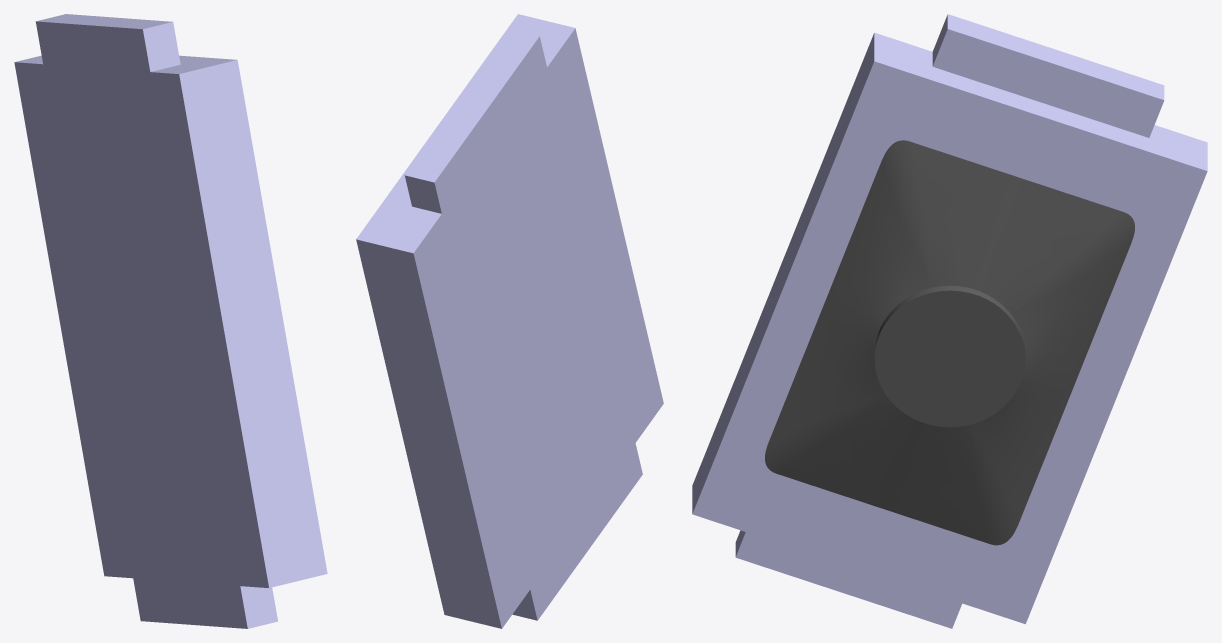
File: EBoxNewAsm_stp_1_IMC413_1_stp_1_IMC413_1_30_stp_1_solid1.obj
3 views of the same model, side by side, from view 1: azimuth 30°, elevation 25°; view 2: azimuth 150°, elevation 25°; view 3: azimuth 270°, elevation 25° (orthographic). The views are drawn at different scales.
Parts seen in each view (by area): view 1: mesh10384, mesh10377, mesh10382, mesh10387, mesh10381, mesh10379; view 2: mesh10384, mesh10378, mesh10381, mesh10379, mesh10383; view 3: mesh10376, mesh10373, mesh10371, mesh10366, mesh10368, mesh10374, mesh10380, mesh10379, mesh10388, mesh10377, mesh10381, mesh10372 (+4 smaller).
Boxes of the visible parts, <box> form: mesh10384: <box>14,21,268,628</box>; mesh10377: <box>179,60,327,587</box>; mesh10382: <box>143,22,180,71</box>; mesh10387: <box>240,586,277,628</box>; mesh10381: <box>37,14,172,29</box>; mesh10379: <box>15,55,236,73</box>; mesh10384: <box>413,28,663,628</box>; mesh10378: <box>356,239,501,628</box>; mesh10381: <box>405,29,539,182</box>; mesh10379: <box>356,14,574,253</box>; mesh10383: <box>404,175,441,213</box>; mesh10376: <box>692,61,1207,624</box>; mesh10373: <box>910,141,1122,313</box>; mesh10371: <box>769,161,931,441</box>; mesh10366: <box>874,290,1025,427</box>; mesh10368: <box>777,396,989,543</box>; mesh10374: <box>971,243,1131,524</box>; mesh10380: <box>933,29,1164,137</box>; mesh10379: <box>874,32,1207,170</box>; mesh10388: <box>735,532,962,628</box>; mesh10377: <box>692,33,874,513</box>; mesh10381: <box>947,14,1164,99</box>; mesh10372: <box>881,140,931,286</box>.
Bounding box in the file's own units: 0.0006 × 0.00373 × 0.00291.
